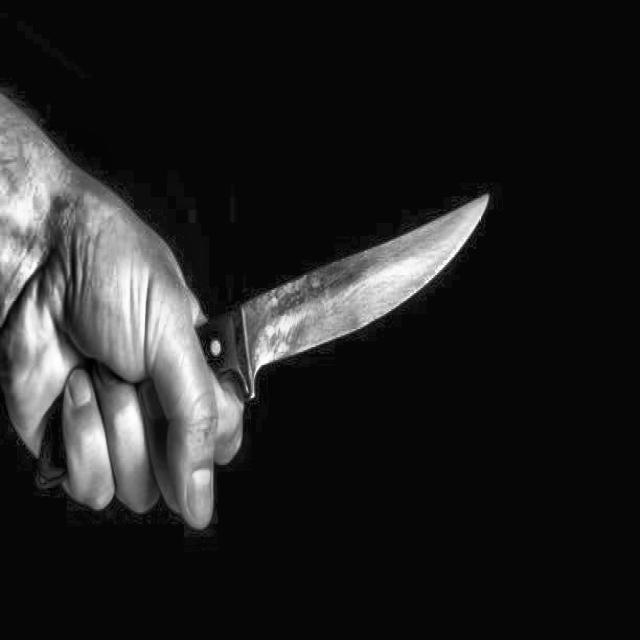pisau: (19, 190, 495, 529)
